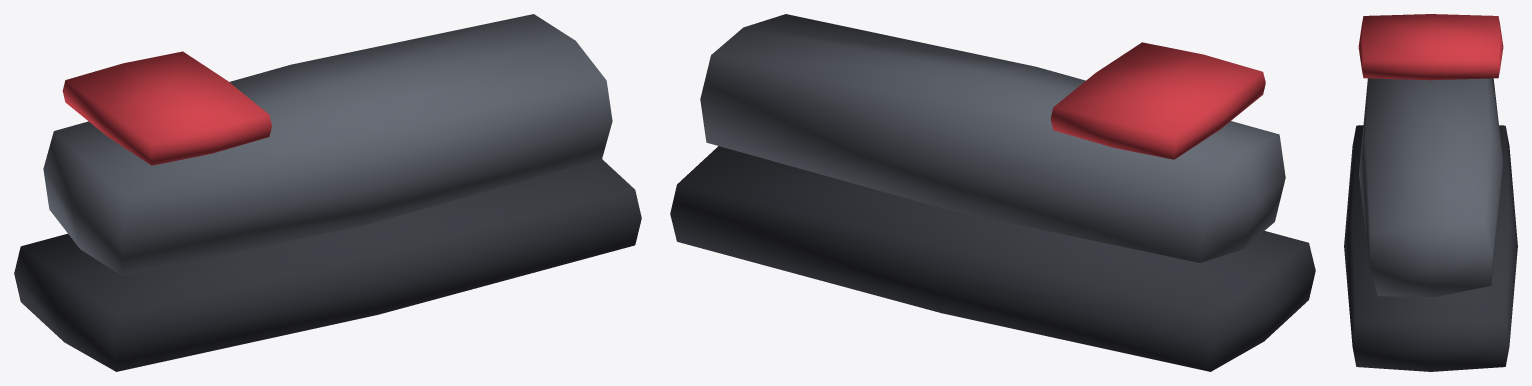
File: stapler.glb
The picture shows the model from 3 angles, left to right: view 1: azimuth 30°, elevation 25°; view 2: azimuth 150°, elevation 25°; view 3: azimuth 270°, elevation 25°; orthographic projection. The views are drawn at different scales.
Visible parts, largest first — view 1: root; view 2: root; view 3: root.
Part boxes in pixels (bbox=[...]): root: bbox=[14, 14, 641, 371]; root: bbox=[670, 14, 1315, 371]; root: bbox=[1344, 14, 1517, 371].
Bounding box in the file's own units: 0.34 × 0.14 × 0.12.
